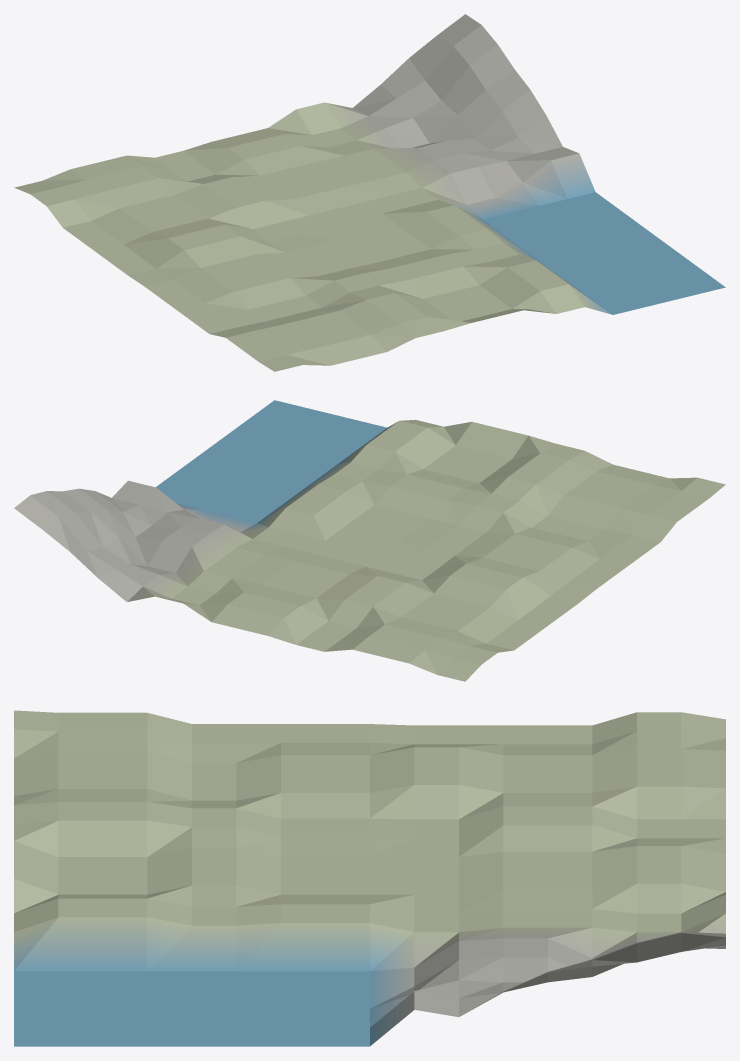
3 renders of one model, top to bottom at view 1: azimuth 30°, elevation 25°; view 2: azimuth 150°, elevation 25°; view 3: azimuth 270°, elevation 25°, orthographic. The views are drawn at different scales.
Bounding box in the file's own units: 32 × 5.67 × 32.
